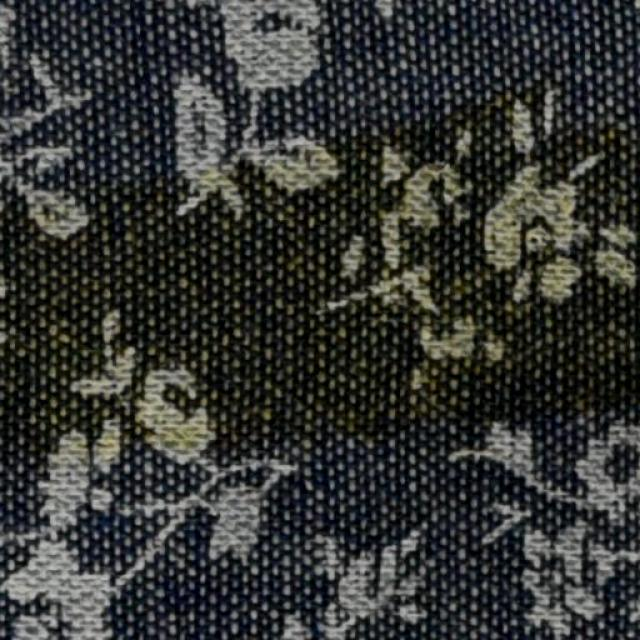Stain: (0, 97, 639, 514)
